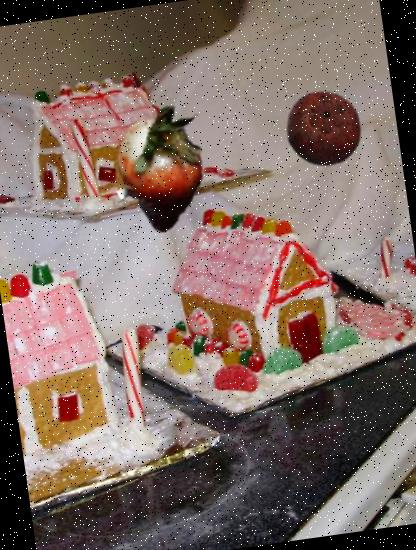Mangostan: (280, 85, 369, 174)
Strawberry: (104, 104, 230, 231)
